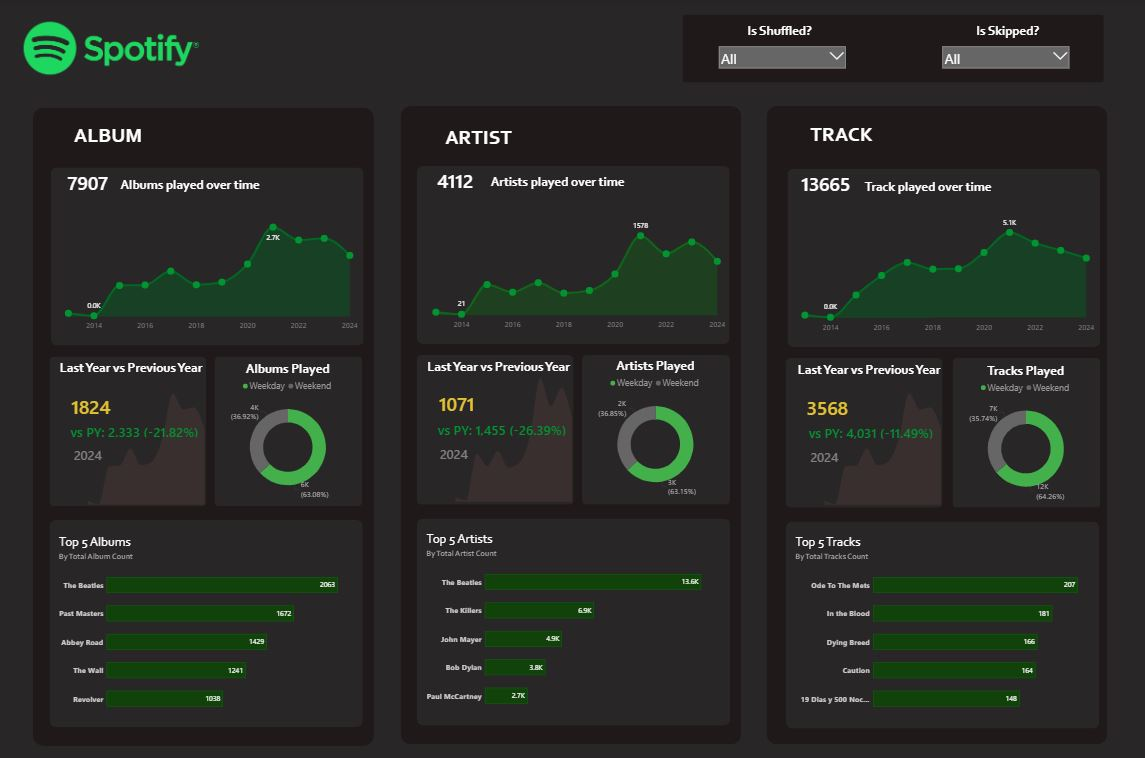

What the dashboard file says about the page in this screenshot:
{"tool":"powerbi","page":{"name":"Overview","canvas":[3300,2200],"ordinal":0},"visuals":[{"type":"image","box":[43,47.8,573.1,200.6],"z":0},{"type":"shape","box":[105,316.2,979,1833.9],"z":1000},{"type":"textbox","box":[138.5,354.4,363,100.3],"z":2000},{"type":"shape","box":[153.3,488.6,897.8,511],"z":3000},{"type":"card","fields":{"Values":["spotify_history.No of Albums"]},"box":[126.1,480.1,270,100],"z":4000},{"type":"textbox","box":[325.2,507.7,463.3,66.9],"z":5000},{"type":"areaChart","fields":{"Category":["Date Table.Year"],"Y":["spotify_history.No of Albums"]},"box":[177.1,612.8,864.4,353.4],"z":6000},{"type":"shape","box":[151.1,1030.1,450,430],"z":7000},{"type":"areaChart","fields":{"Category":["Date Table.Year"],"Y":["spotify_history.No of Albums"]},"box":[216.1,1080.1,395,380],"z":8000},{"type":"textbox","box":[156.1,1035.1,460,70],"z":9000},{"type":"card","fields":{"Values":["spotify_history.CurrentYearAlbums"]},"box":[162.8,1128.5,210.1,86],"z":10000},{"type":"card","fields":{"Values":["spotify_history.PY and YoY KPI"]},"box":[172.4,1224.1,444.1,43],"z":11000},{"type":"shape","box":[626.1,1030.1,425,430],"z":12000},{"type":"card","fields":{"Values":["spotify_history.Max Year"]},"box":[153.3,1271.8,210.1,86],"z":13000},{"type":"donutChart","title":"Albums Played","fields":{"Y":["spotify_history.No of Albums"],"Category":["Date Table.Weekday_Weekend"]},"box":[638.6,1042.6,395,407.5],"z":14000},{"type":"shape","box":[151.1,1500.1,900,595],"z":15000},{"type":"barChart","title":"Top 5 Albums","fields":{"Category":["spotify_history.album_name"],"Y":["CountNonNull(spotify_history.album_name)"]},"box":[172.1,1536.1,862,538],"z":16000},{"type":"shape","box":[1158.7,309.6,979,1833.9],"z":17000},{"type":"textbox","box":[1202.2,357.8,363,100.3],"z":18000},{"type":"shape","box":[1206.9,481.9,897.8,511],"z":19000},{"type":"card","fields":{"Values":["spotify_history.No of Artist"]},"box":[1179.8,473.5,270,100],"z":20000},{"type":"textbox","box":[1378.9,501.1,463.3,66.9],"z":21000},{"type":"areaChart","fields":{"Category":["Date Table.Year"],"Y":["spotify_history.No of Artist"]},"box":[1230.8,606.1,864.4,353.4],"z":22000},{"type":"shape","box":[1204.8,1023.5,450,430],"z":23000},{"type":"areaChart","fields":{"Category":["Date Table.Year"],"Y":["spotify_history.No of Artist"]},"box":[1269.8,1073.5,395,380],"z":24000},{"type":"textbox","box":[1209.8,1028.5,460,70],"z":25000},{"type":"card","fields":{"Values":["spotify_history.CurrentYearArtists"]},"box":[1216.5,1121.9,210.1,86],"z":26000},{"type":"card","fields":{"Values":["spotify_history.PY and YoY KPI Artist"]},"box":[1226,1217.4,444.1,43],"z":27000},{"type":"shape","box":[1679.8,1023.5,425,430],"z":28000},{"type":"card","fields":{"Values":["spotify_history.Max Year"]},"box":[1206.9,1265.2,210.1,86],"z":29000},{"type":"donutChart","title":"Artists Played","fields":{"Category":["Date Table.Weekday_Weekend"],"Y":["spotify_history.No of Artist"]},"box":[1692.3,1036,395,407.5],"z":30000},{"type":"shape","box":[1204.8,1493.5,900,595],"z":31000},{"type":"barChart","title":"Top 5 Artists","fields":{"Category":["spotify_history.artist_name"],"Y":["CountNonNull(spotify_history.artist_name)"]},"box":[1225.8,1529.5,862,538],"z":32000},{"type":"shape","box":[2211.7,309.5,979,1833.9],"z":33000},{"type":"textbox","box":[2245.1,347.8,363,100.3],"z":34000},{"type":"barChart","title":"Top 5 Albums","fields":{"Category":["spotify_history.album_name"],"Y":["CountNonNull(spotify_history.album_name)"]},"box":[2278.8,1529.4,862,538],"z":35000},{"type":"shape","box":[2269.9,491.9,897.8,511],"z":36000},{"type":"card","fields":{"Values":["spotify_history.No of Track"]},"box":[2242.8,483.4,270,100],"z":37000},{"type":"textbox","box":[2441.8,511,463.3,66.9],"z":38000},{"type":"areaChart","fields":{"Category":["Date Table.Year"],"Y":["spotify_history.No of Track"]},"box":[2293.8,616.1,864.4,353.4],"z":39000},{"type":"shape","box":[2267.8,1033.4,450,430],"z":40000},{"type":"areaChart","fields":{"Category":["Date Table.Year"],"Y":["spotify_history.No of Albums"]},"box":[2332.8,1083.4,395,380],"z":41000},{"type":"textbox","box":[2272.8,1038.4,460,70],"z":42000},{"type":"card","fields":{"Values":["spotify_history.CurrentYearTracks"]},"box":[2279.5,1131.9,210.1,86],"z":43000},{"type":"card","fields":{"Values":["spotify_history.PY and YoY KPI Track"]},"box":[2289,1227.4,444.1,43],"z":44000},{"type":"shape","box":[2742.8,1033.4,425,430],"z":45000},{"type":"card","fields":{"Values":["spotify_history.Max Year"]},"box":[2269.9,1275.2,210.1,86],"z":46000},{"type":"donutChart","title":"Tracks Played","fields":{"Category":["Date Table.Weekday_Weekend"],"Y":["spotify_history.No of Track"]},"box":[2755.3,1045.9,395,407.5],"z":47000},{"type":"shape","box":[2267.8,1503.4,900,595],"z":48000},{"type":"barChart","title":"Top 5 Tracks","fields":{"Y":["CountNonNull(spotify_history.track_name)"],"Category":["spotify_history.track_name"]},"box":[2288.8,1539.4,862,538],"z":49000},{"type":"shape","box":[1968,48,1210,195],"z":50000},{"type":"slicer","fields":{"Values":["spotify_history.shuffle"]},"box":[2064,128,384,96],"z":51000},{"type":"slicer","fields":{"Values":["spotify_history.skipped"]},"box":[2704,128,384,96],"z":52000},{"type":"textbox","box":[2672,64,464,64],"z":53000},{"type":"textbox","box":[2016,64,464,64],"z":54000}]}

Visuals, with their boxes in screenshot pixels (x1, y1, x2, y2), scaled from the page's 3300x2200 canvas onto the 1145x758 screenshot:
image: box(15, 16, 214, 86)
shape: box(36, 109, 376, 741)
textbox: box(48, 122, 174, 157)
shape: box(53, 168, 365, 344)
card - spotify_history.No of Albums: box(44, 165, 137, 200)
textbox: box(113, 175, 274, 198)
areaChart - Date Table.Year x spotify_history.No of Albums: box(61, 211, 361, 333)
shape: box(52, 355, 209, 503)
areaChart - Date Table.Year x spotify_history.No of Albums: box(75, 372, 212, 503)
textbox: box(54, 357, 214, 381)
card - spotify_history.CurrentYearAlbums: box(56, 389, 129, 418)
card - spotify_history.PY and YoY KPI: box(60, 422, 214, 437)
shape: box(217, 355, 365, 503)
card - spotify_history.Max Year: box(53, 438, 126, 468)
"Albums Played" donutChart: box(222, 359, 359, 500)
shape: box(52, 517, 365, 722)
"Top 5 Albums" barChart: box(60, 529, 359, 715)
shape: box(402, 107, 742, 739)
textbox: box(417, 123, 543, 158)
shape: box(419, 166, 730, 342)
card - spotify_history.No of Artist: box(409, 163, 503, 198)
textbox: box(478, 173, 639, 196)
areaChart - Date Table.Year x spotify_history.No of Artist: box(427, 209, 727, 331)
shape: box(418, 353, 574, 501)
areaChart - Date Table.Year x spotify_history.No of Artist: box(441, 370, 578, 501)
textbox: box(420, 354, 579, 378)
card - spotify_history.CurrentYearArtists: box(422, 387, 495, 416)
card - spotify_history.PY and YoY KPI Artist: box(425, 419, 579, 434)
shape: box(583, 353, 730, 501)
card - spotify_history.Max Year: box(419, 436, 492, 466)
"Artists Played" donutChart: box(587, 357, 724, 497)
shape: box(418, 515, 730, 720)
"Top 5 Artists" barChart: box(425, 527, 724, 712)
shape: box(767, 107, 1107, 738)
textbox: box(779, 120, 905, 154)
"Top 5 Albums" barChart: box(791, 527, 1090, 712)
shape: box(788, 169, 1099, 346)
card - spotify_history.No of Track: box(778, 167, 872, 201)
textbox: box(847, 176, 1008, 199)
areaChart - Date Table.Year x spotify_history.No of Track: box(796, 212, 1096, 334)
shape: box(787, 356, 943, 504)
areaChart - Date Table.Year x spotify_history.No of Albums: box(809, 373, 946, 504)
textbox: box(789, 358, 948, 382)
card - spotify_history.CurrentYearTracks: box(791, 390, 864, 420)
card - spotify_history.PY and YoY KPI Track: box(794, 423, 948, 438)
shape: box(952, 356, 1099, 504)
card - spotify_history.Max Year: box(788, 439, 860, 469)
"Tracks Played" donutChart: box(956, 360, 1093, 501)
shape: box(787, 518, 1099, 723)
"Top 5 Tracks" barChart: box(794, 530, 1093, 716)
shape: box(683, 17, 1103, 84)
slicer - spotify_history.shuffle: box(716, 44, 849, 77)
slicer - spotify_history.skipped: box(938, 44, 1071, 77)
textbox: box(927, 22, 1088, 44)
textbox: box(699, 22, 860, 44)
